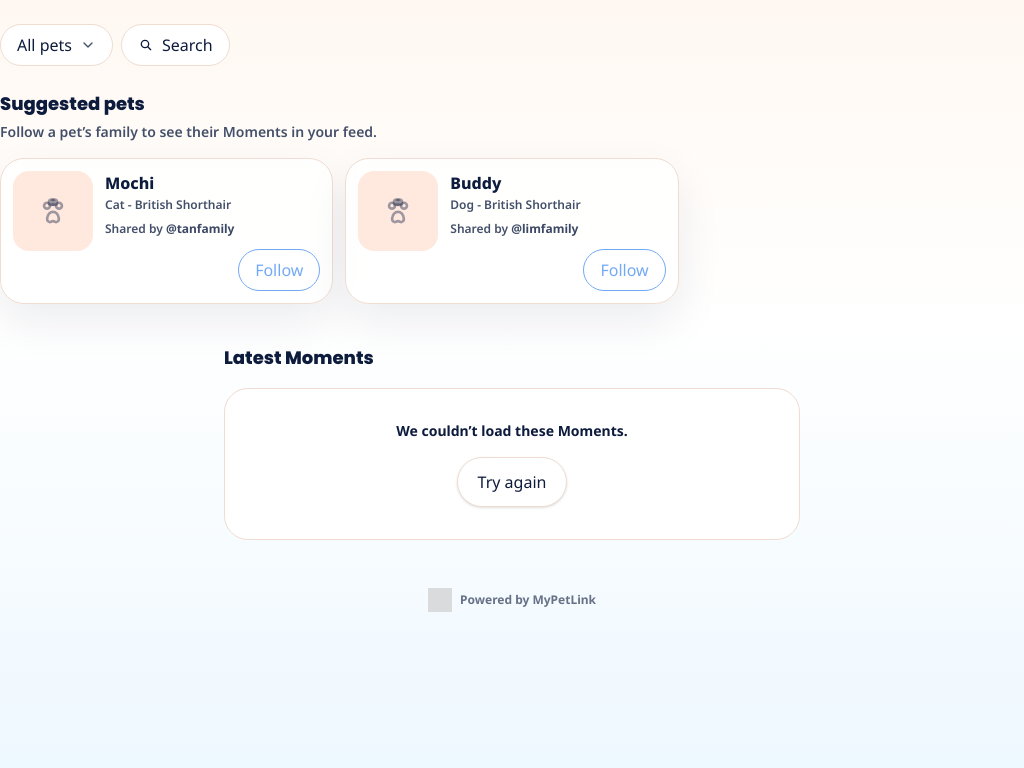
Test: SocialExploreView › offers a retry when the Moments fail without losing the pets
Check: the element with test id "explore-moments-error" is shown, box [224,388,800,540]
Check: the list with test id "explore-pets" is shown, box [0,158,679,304]
Click the button "Try again" at (512, 482), box [457,457,567,507]
(page scrolled)
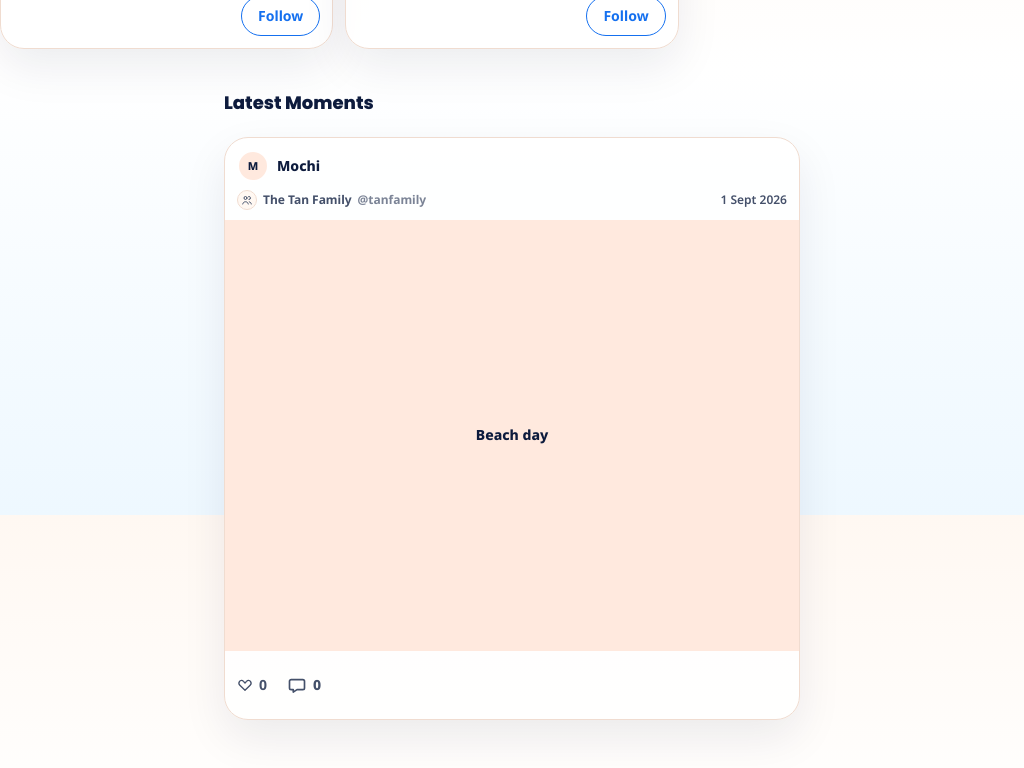
Check: the element with test id "social-moment-card" is shown, box [224,137,800,720]
